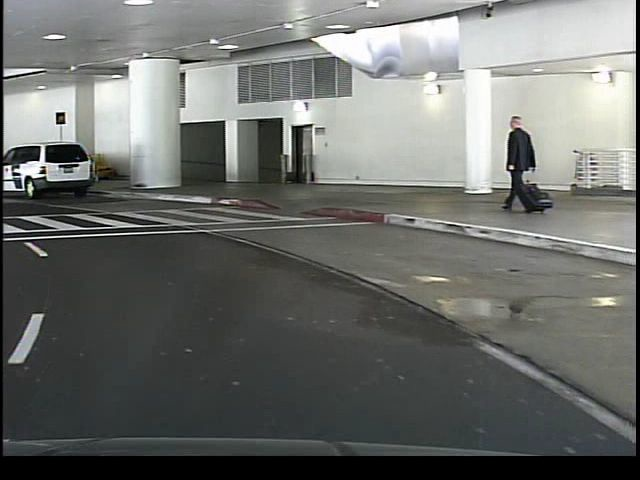person: (493, 109, 530, 216)
